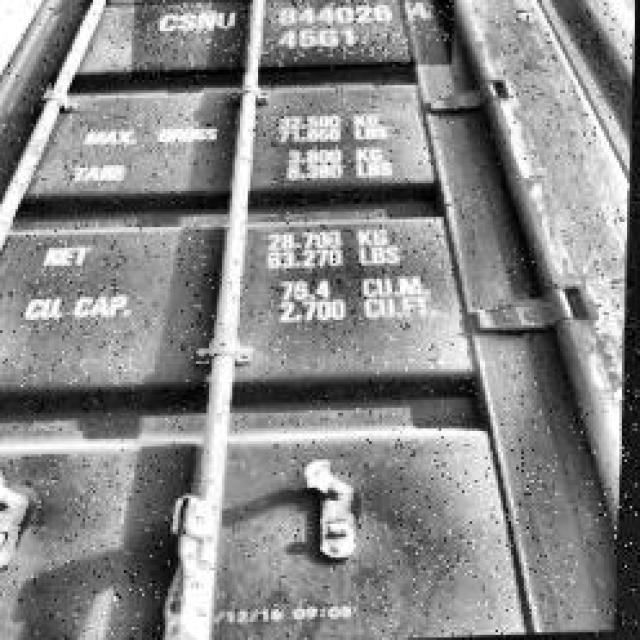ISO: (271, 28, 371, 55)
container_number: (142, 3, 436, 37)
